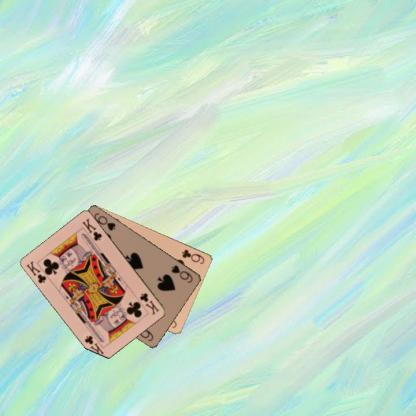6c: (179, 247, 206, 265)
6s: (169, 262, 194, 284)
Kc: (24, 258, 48, 285), (137, 290, 161, 316)
